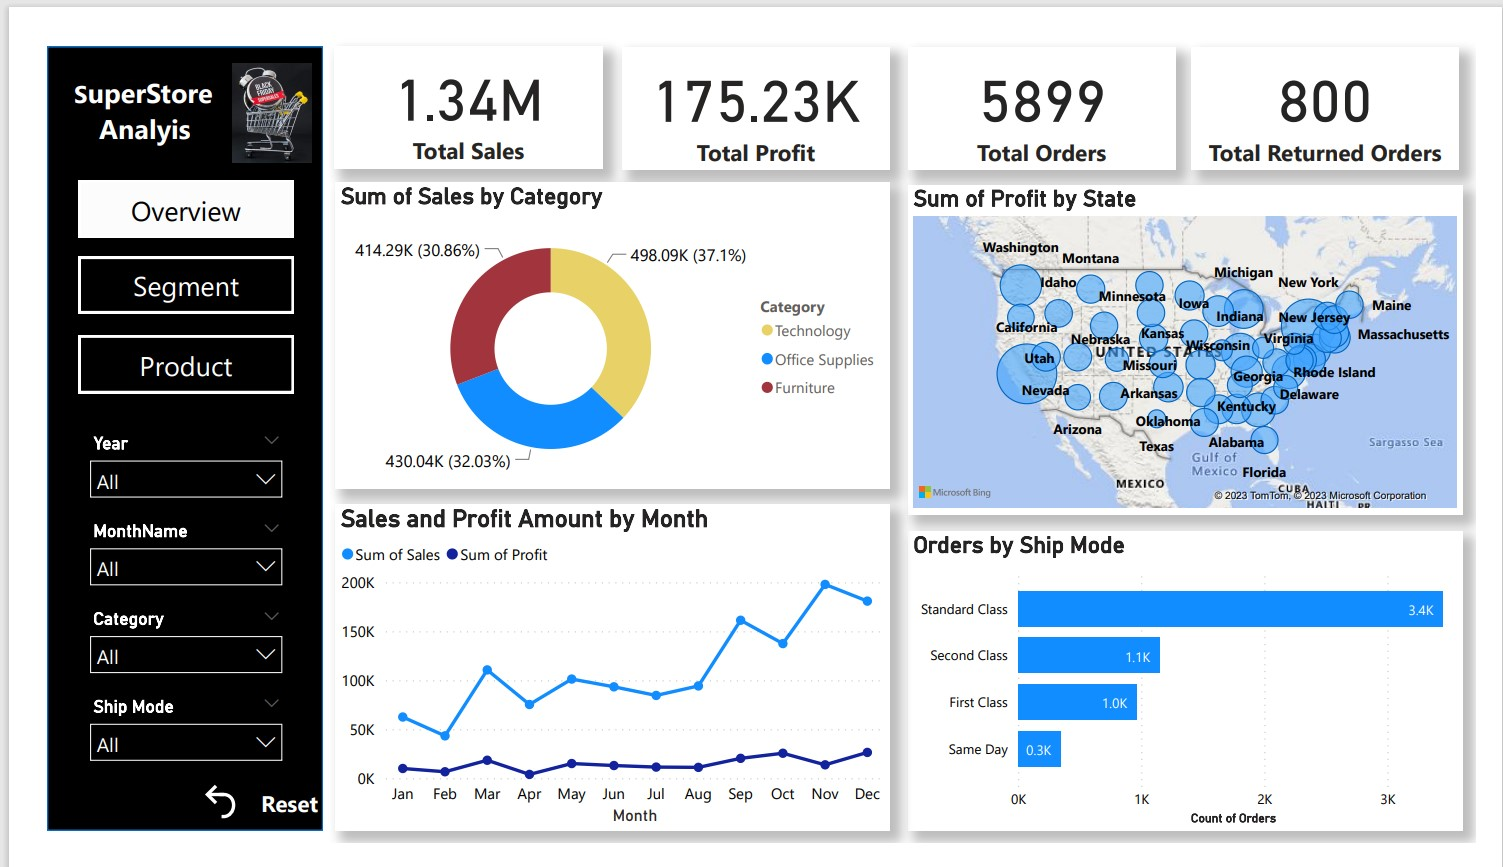

What the dashboard file says about the page in this screenshot:
{"tool":"powerbi","page":{"name":"Overview","canvas":[1280,720],"ordinal":0},"visuals":[{"type":"shape","title":"SUPERSTORE","box":[9.8,12.2,245.7,696.8],"z":0},{"type":"textbox","box":[29.3,30.6,135.7,79.5],"z":1000},{"type":"image","box":[165,22,90.5,97.8],"z":2000},{"type":"actionButton","box":[37.9,130.8,190.7,51.3],"z":3000},{"type":"actionButton","box":[37.9,268.9,190.7,50.1],"z":4000},{"type":"actionButton","box":[37.9,205.4,190.7,51.3],"z":5000},{"type":"slicer","fields":{"Values":["Orders.Year"]},"box":[37.9,349.6,190.7,68.5],"z":6000},{"type":"slicer","fields":{"Values":["Orders.MonthName"]},"box":[37.9,427.8,190.7,78.2],"z":7000},{"type":"slicer","fields":{"Values":["Orders.Category"]},"box":[37.9,506.1,190.7,78.2],"z":8000},{"type":"slicer","fields":{"Values":["Orders.Ship Mode"]},"box":[37.9,584.3,190.7,78.2],"z":9000},{"type":"card","fields":{"Values":["Orders.Total Sales"]},"box":[265.3,12.2,238.4,108.8],"z":10000},{"type":"card","fields":{"Values":["Orders.Total Profit"]},"box":[520.7,13.4,238.4,108.8],"z":11000},{"type":"card","fields":{"Values":["CountNonNull(Orders.Order ID)"]},"box":[775,13.4,238.4,108.8],"z":12000},{"type":"card","fields":{"Values":["CountNonNull(Returns.Order ID)"]},"box":[1026.8,13.4,238.4,108.8],"z":13000},{"type":"donutChart","fields":{"Category":["Orders.Category"],"Y":["Sum(Orders.Sales)"]},"box":[266.2,132.5,492.5,272.5],"z":14000},{"type":"map","fields":{"Category":["Orders.State"],"Size":["Sum(Orders.Profit)"]},"box":[775,135,492.5,292.5],"z":15000},{"type":"barChart","title":"Count of Orders by Ship Mode","fields":{"Category":["Orders.Ship Mode"],"Y":["CountNonNull(Orders.Order ID)"]},"box":[775,442.5,492.5,266.2],"z":16000},{"type":"lineChart","title":"Sales and Profit Amount by Month","fields":{"Category":["Orders.MonthName"],"Y":["Sum(Orders.Sales)","Sum(Orders.Profit)"]},"box":[266.2,418.8,492.5,290],"z":17000},{"type":"actionButton","title":"Reset","box":[144.2,662.5,111.2,40.3],"z":20000}]}

Visuals, with their boxes in screenshot pixels (x1, y1, x2, y2), scaled from the page's 1280x720 canvas onto the 1503x867 screenshot:
"SUPERSTORE" shape: 12,15,300,854
textbox: 34,37,194,133
image: 194,26,300,144
actionButton: 45,158,268,219
actionButton: 45,324,268,384
actionButton: 45,247,268,309
slicer - Orders.Year: 45,421,268,503
slicer - Orders.MonthName: 45,515,268,609
slicer - Orders.Category: 45,609,268,704
slicer - Orders.Ship Mode: 45,704,268,798
card - Orders.Total Sales: 312,15,591,146
card - Orders.Total Profit: 611,16,891,147
card - CountNonNull(Orders.Order ID): 910,16,1190,147
card - CountNonNull(Returns.Order ID): 1206,16,1486,147
donutChart - Orders.Category x Sum(Orders.Sales): 313,160,891,488
map - Orders.State x Sum(Orders.Profit): 910,163,1488,515
"Count of Orders by Ship Mode" barChart: 910,533,1488,853
"Sales and Profit Amount by Month" lineChart: 313,504,891,854
"Reset" actionButton: 169,798,300,846
